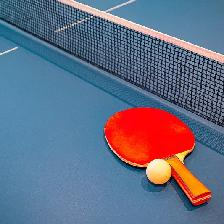YellowBall: (145, 159, 171, 184)
